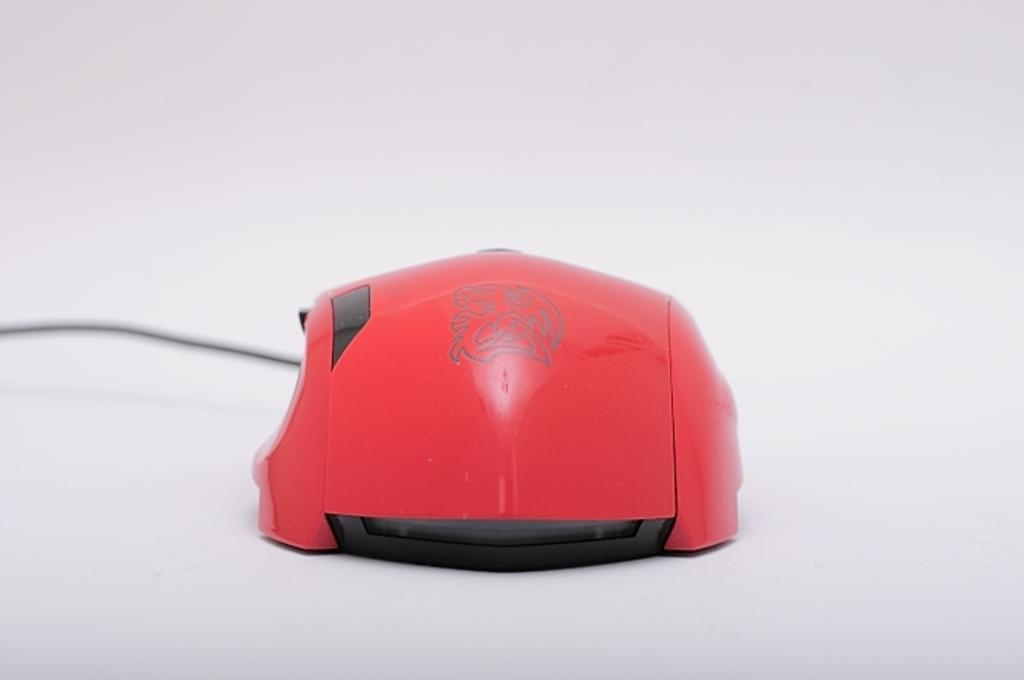Computer-mouse: (246, 243, 745, 575)
